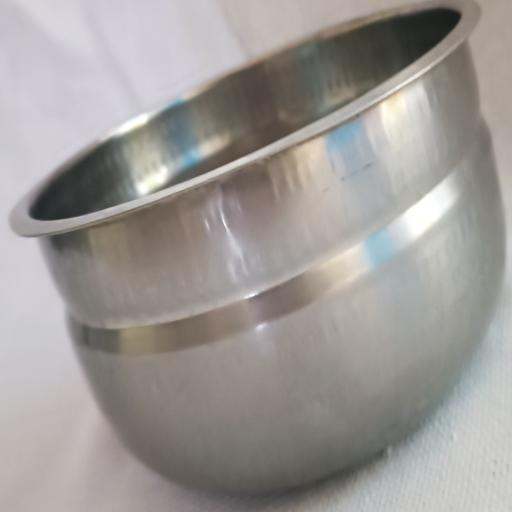vessel: (11, 0, 504, 493)
